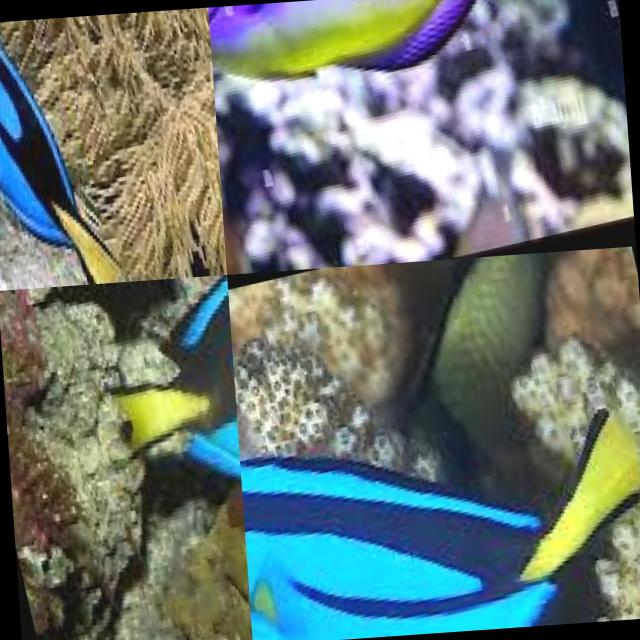BlueTang: (236, 393, 640, 640), (0, 12, 149, 290), (121, 274, 243, 512), (208, 0, 487, 92)
